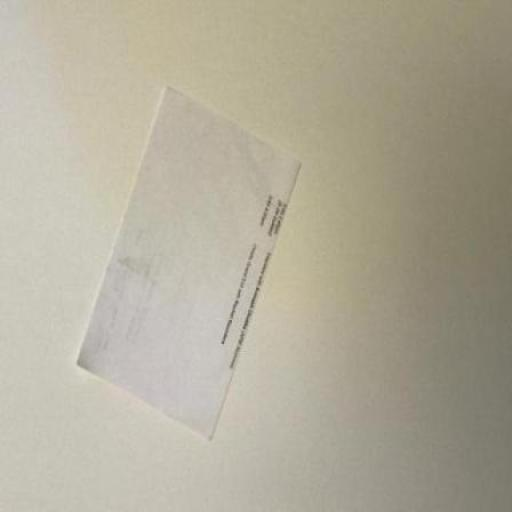paper: (68, 78, 307, 464)
